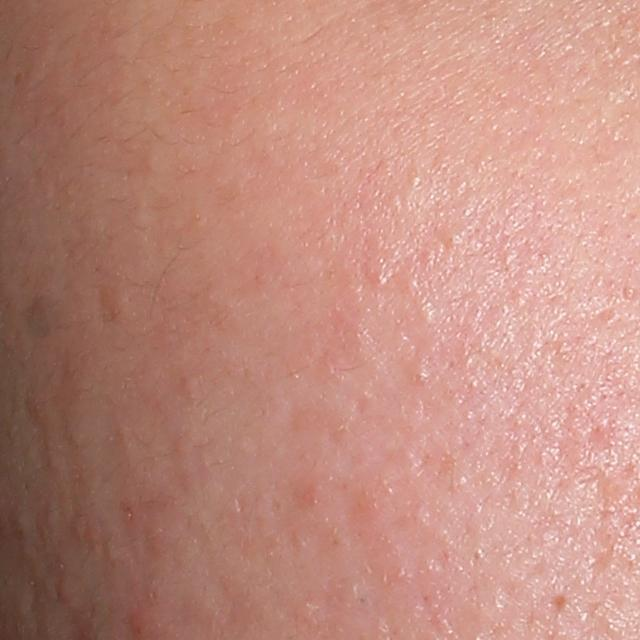papule: (56, 582, 78, 608)
